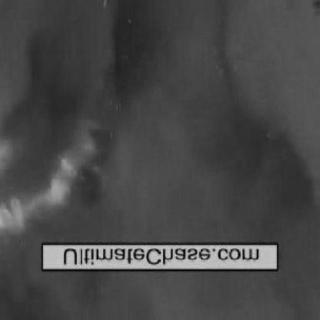Fire: (1, 132, 101, 244)
Smoke: (121, 16, 307, 243)
